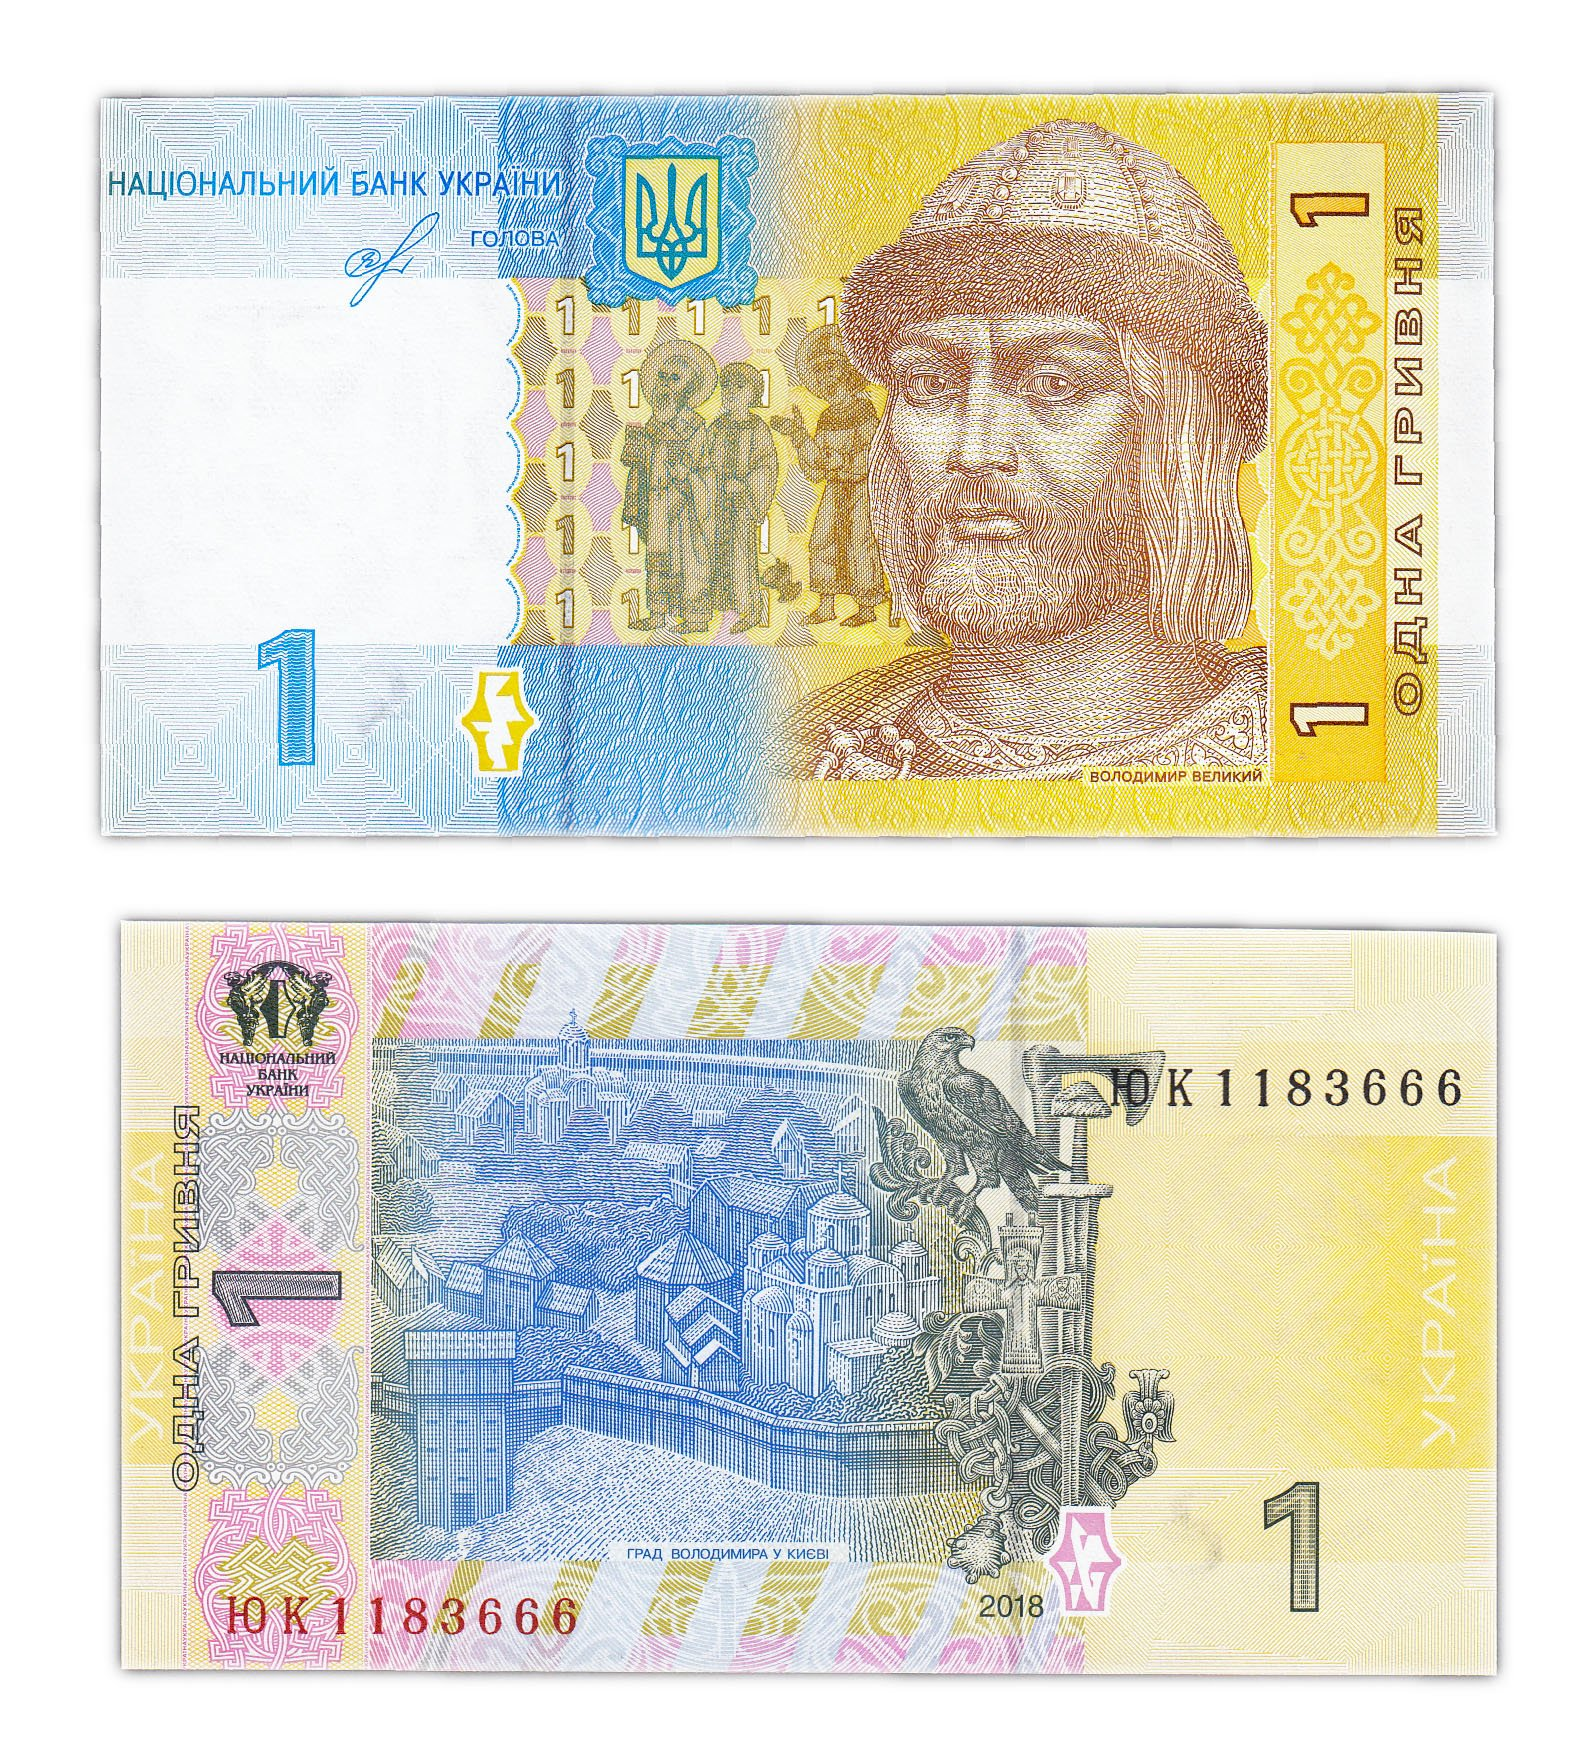bn_1: (134, 925, 1507, 1687), (104, 99, 1503, 845)
